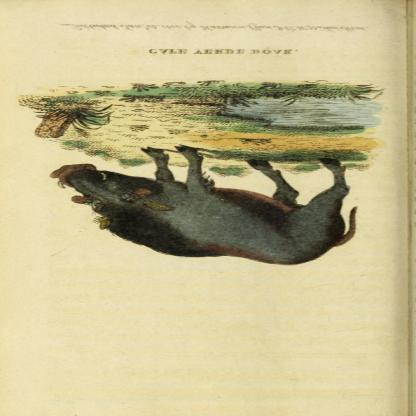boar: (50, 146, 358, 266)
